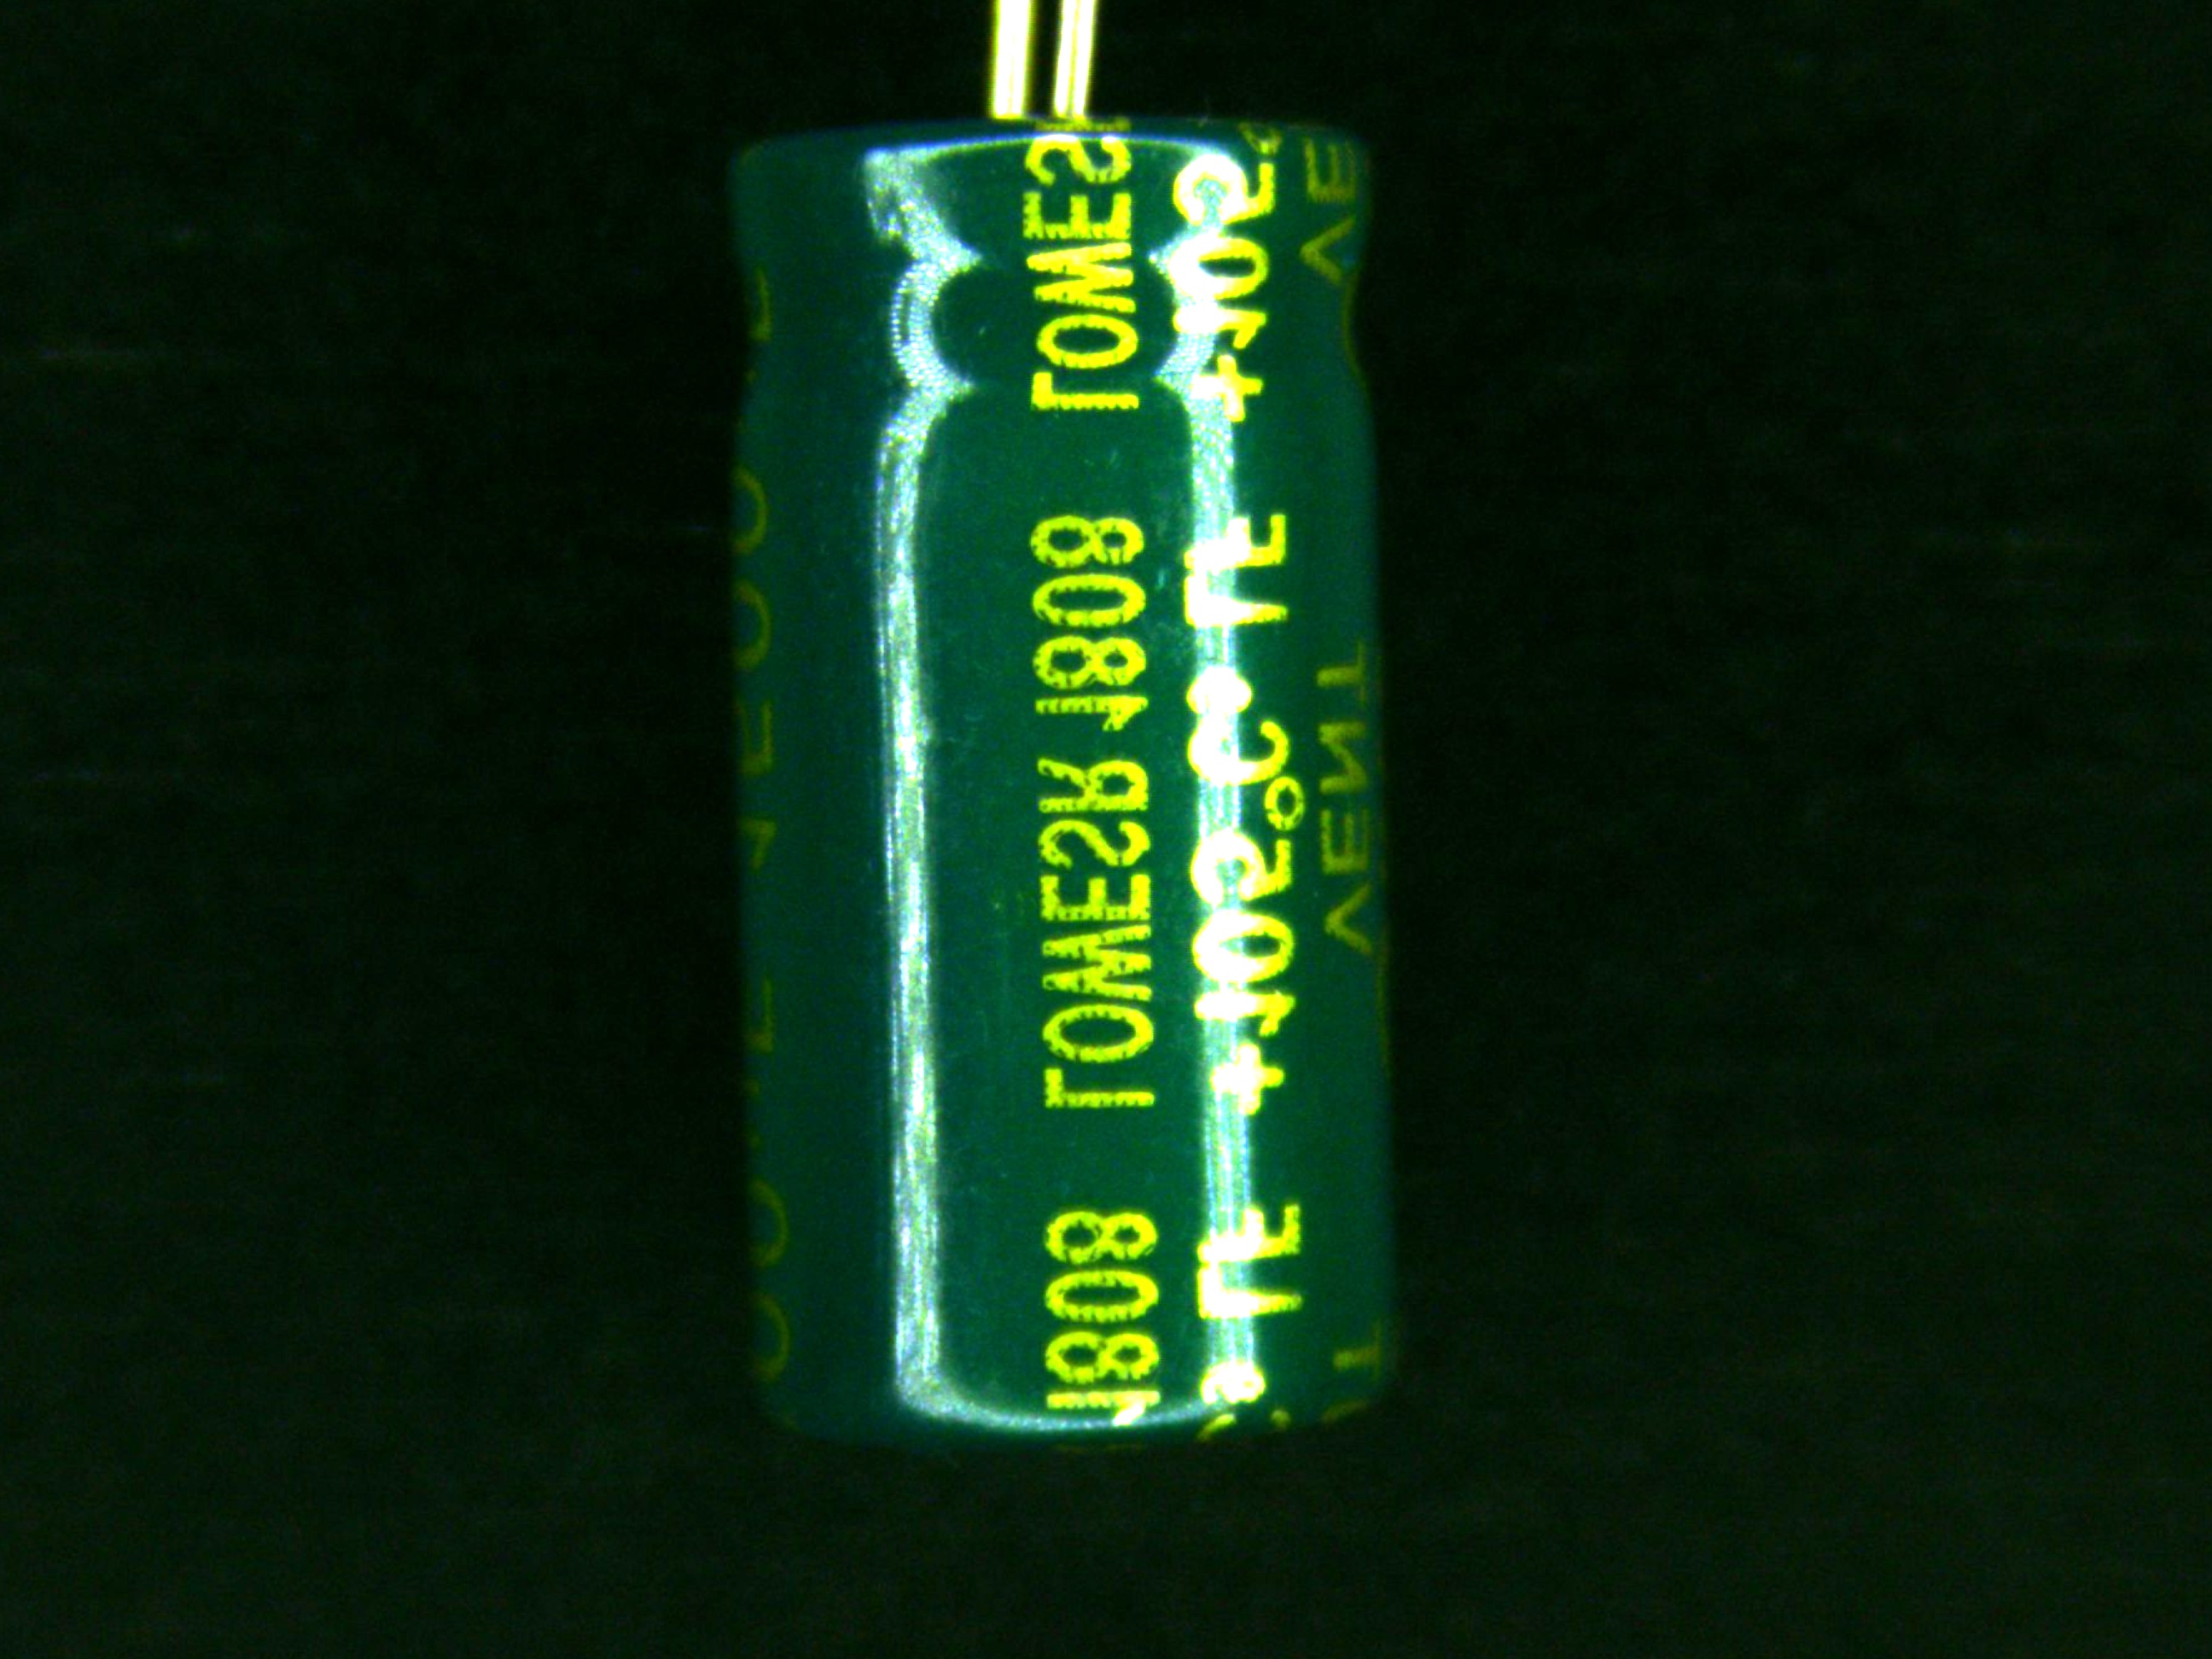c1: (712, 51, 1406, 1438)
